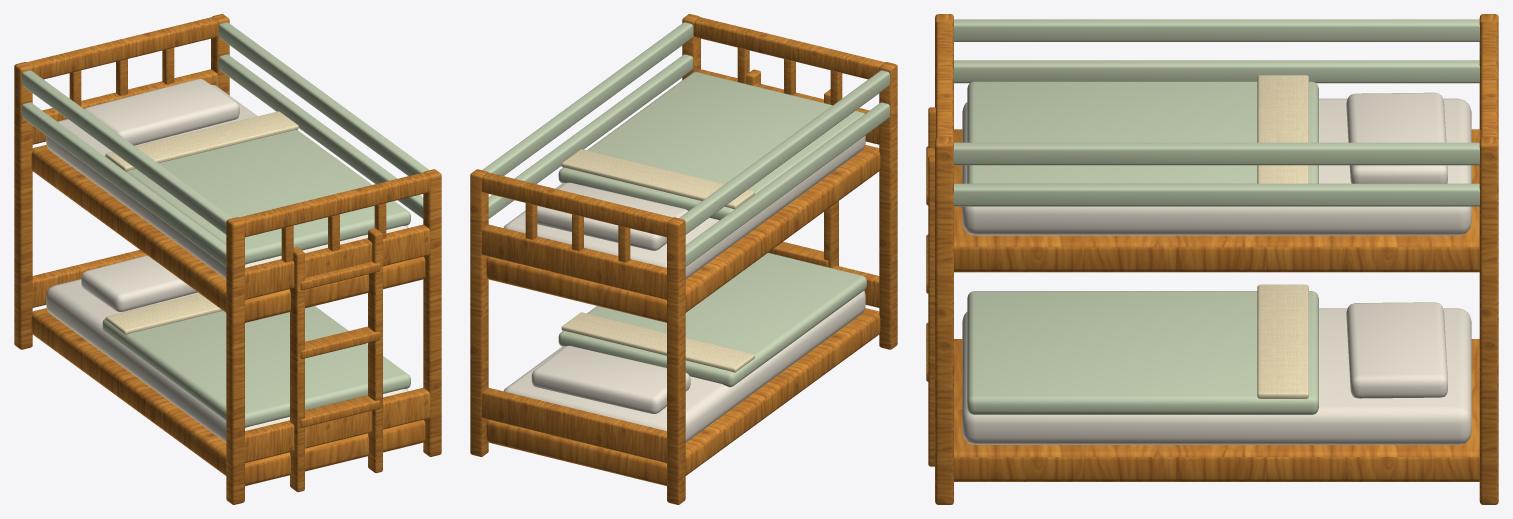
Rendered from low-kids-bunk.glb.
3 renders of one model, left to right at view 1: azimuth 30°, elevation 25°; view 2: azimuth 150°, elevation 25°; view 3: azimuth 270°, elevation 25°, orthographic. The views are drawn at different scales.
Visible parts, largest first — view 1: low-kids-bunk; view 2: low-kids-bunk; view 3: low-kids-bunk.
Part boxes in pixels (x1,y1,x2,y2): low-kids-bunk: [14, 14, 441, 504]; low-kids-bunk: [470, 14, 897, 504]; low-kids-bunk: [926, 14, 1498, 504].
Size of the model in its own units: 1.13 by 1.45 by 2.08.
5 materials, 2 textured.
